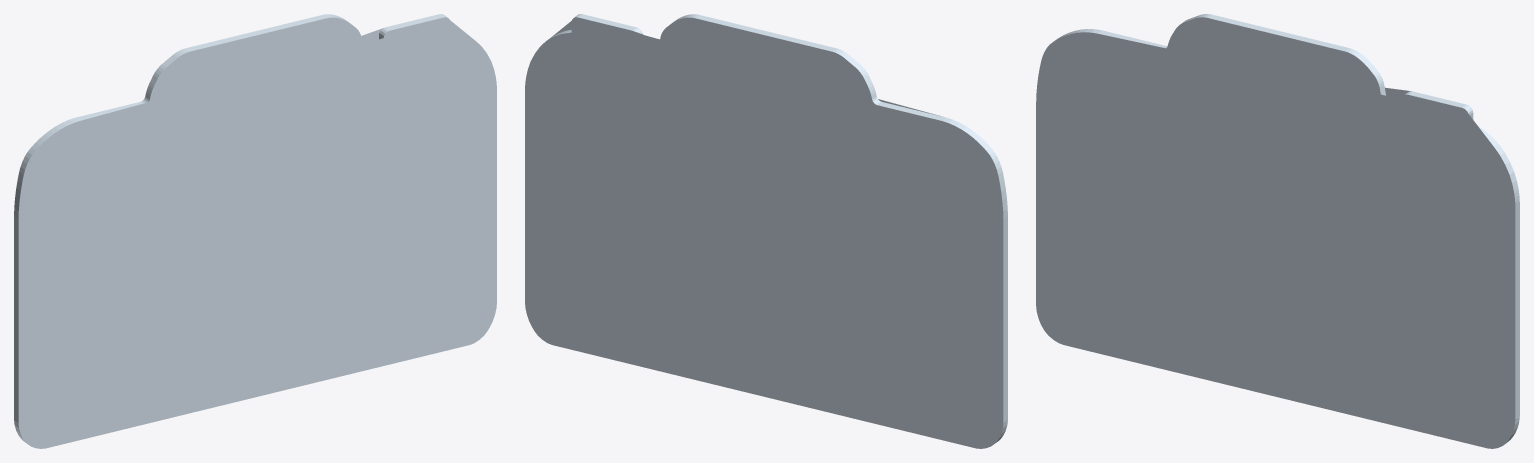
File: Camera_3D_Icon.fbx
3 views of the same model, side by side, from view 1: azimuth 30°, elevation 25°; view 2: azimuth 150°, elevation 25°; view 3: azimuth 330°, elevation 25° (orthographic).
Parts seen in each view (by area): view 1: Camera_3D_Icon_01; view 2: Camera_3D_Icon_01; view 3: Camera_3D_Icon_01.
Part boxes in pixels (box(x1,y1,x2,y2)): Camera_3D_Icon_01: box(14, 14, 496, 448); Camera_3D_Icon_01: box(525, 14, 1007, 448); Camera_3D_Icon_01: box(1036, 14, 1519, 448).
Size of the model in its own units: 122 by 87.77 by 2.
